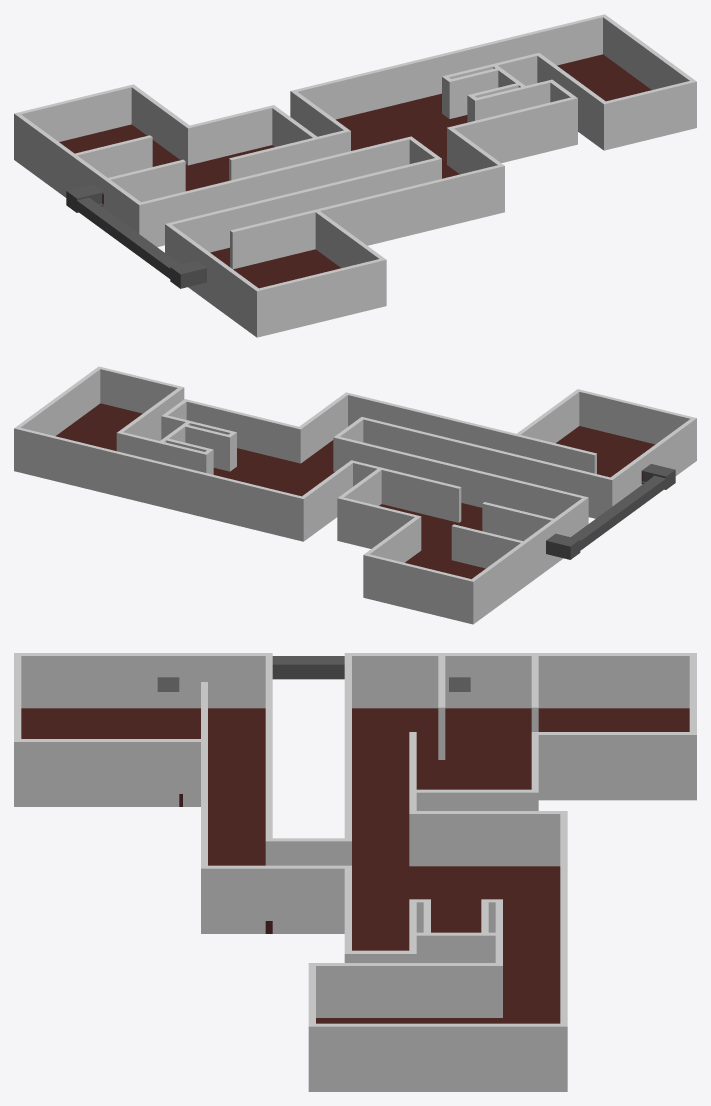
File: map.fbx
3 views of the same model, one above another, from view 1: azimuth 30°, elevation 25°; view 2: azimuth 150°, elevation 25°; view 3: azimuth 270°, elevation 25° (orthographic). The views are drawn at different scales.
Parts seen in each view (by area): view 1: Cube; view 2: Cube; view 3: Cube.
Boxes of the visible parts, x1,y1,x2,y2 form: Cube: [14, 14, 696, 337]; Cube: [14, 366, 696, 624]; Cube: [14, 653, 696, 1091].
Bounding box in the file's own units: 6450 × 500 × 4750.
